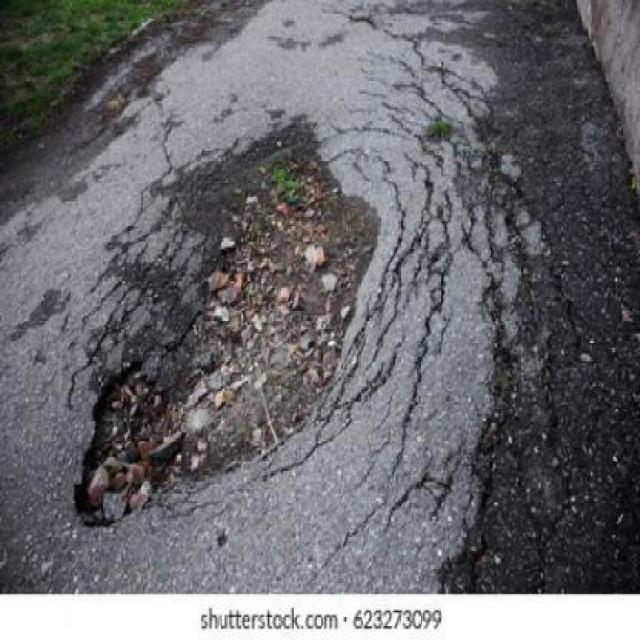Buraco: (66, 110, 389, 536)
